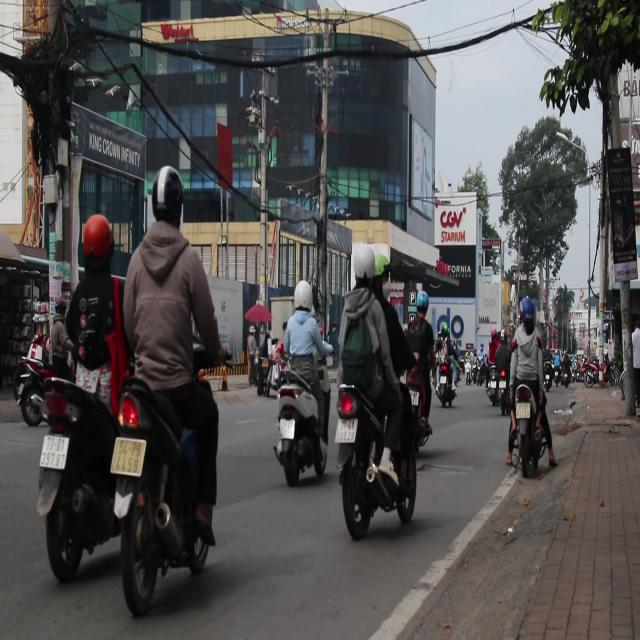motorbike: (104, 371, 216, 616), (35, 357, 125, 584), (332, 373, 420, 539), (272, 362, 328, 488), (15, 353, 64, 429), (511, 381, 546, 476), (436, 366, 458, 408), (561, 355, 579, 387), (580, 360, 598, 387)
